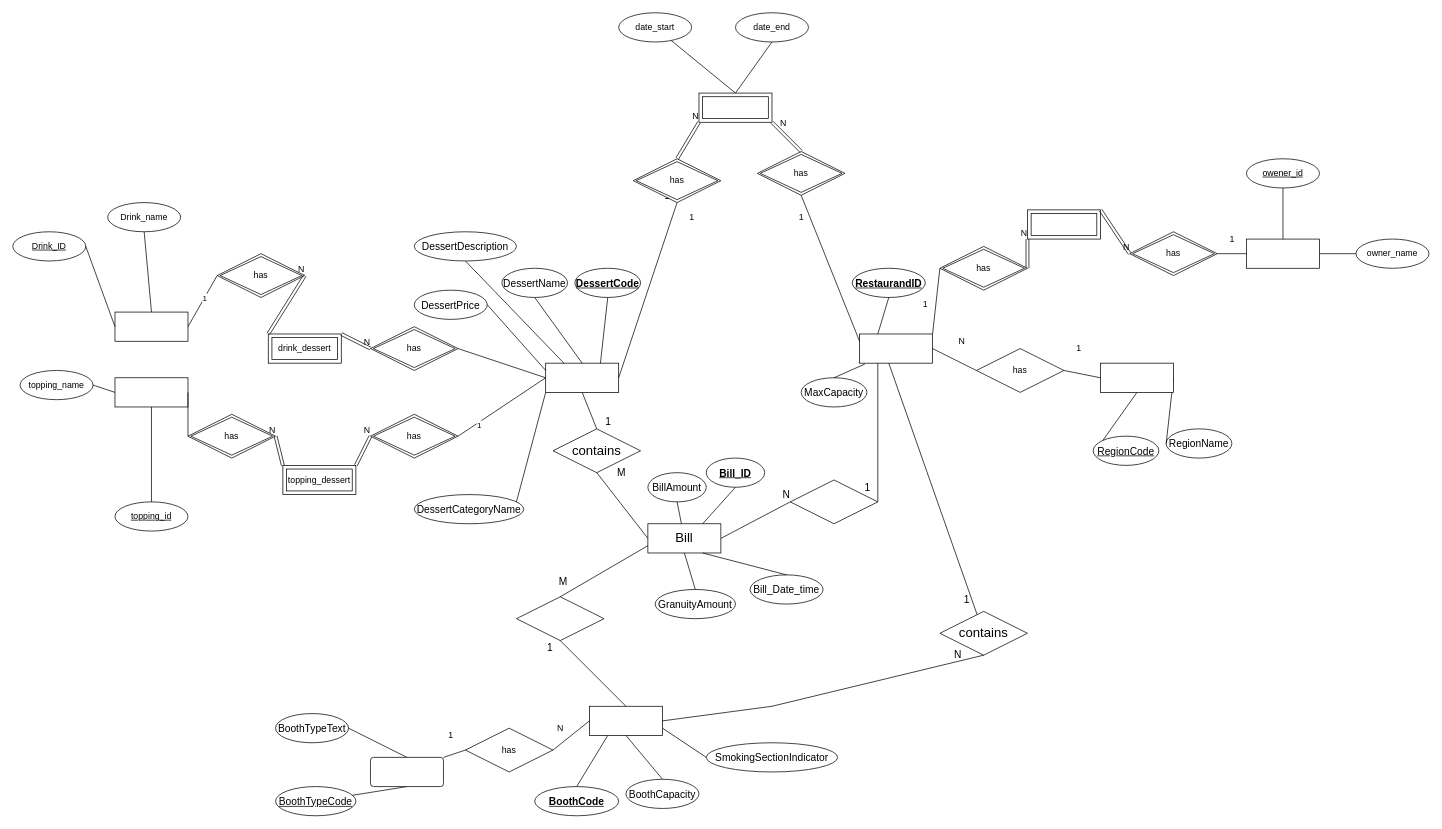
This 1442x829 diagram has some shape labels left out. The centre of each missing label's shape, as x and y in pixels:
Booth: the point at 625,720
boothtype: the point at 406,772
Dessert: the point at 582,377
dessert_offer: the point at 735,107
drink: the point at 151,326
generate: the point at 560,618
has_owner: the point at 1063,224
Owner: the point at 1282,253
process: the point at 833,501
region: the point at 1136,377
Restaurant: the point at 896,348
topping: the point at 151,392
